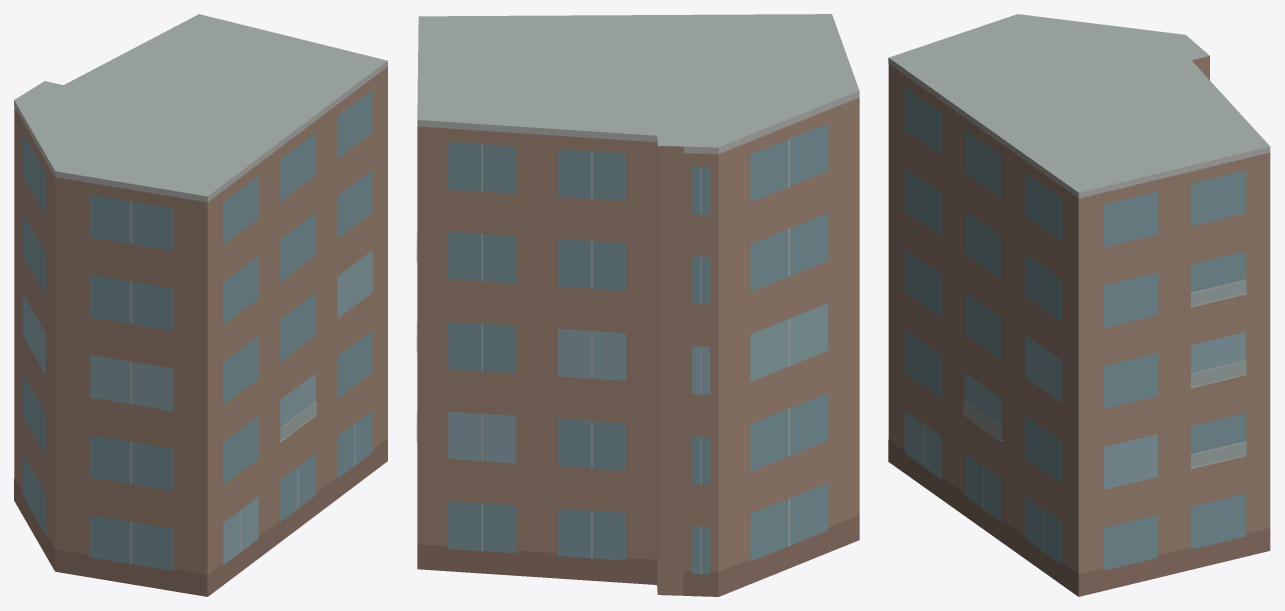
Rendered from survey-upis-32688602.glb.
The picture shows the model from 3 angles, left to right: view 1: azimuth 30°, elevation 25°; view 2: azimuth 150°, elevation 25°; view 3: azimuth 270°, elevation 25°; orthographic projection. The views are drawn at different scales.
Visible parts, largest first — view 1: survey-upis-32688602.tmp; view 2: survey-upis-32688602.tmp; view 3: survey-upis-32688602.tmp.
Boxes of the visible parts, bbox=[...] form: survey-upis-32688602.tmp: bbox=[14, 14, 387, 596]; survey-upis-32688602.tmp: bbox=[416, 14, 859, 596]; survey-upis-32688602.tmp: bbox=[888, 14, 1270, 596].
Bounding box in the file's own units: 15.84 × 16.69 × 14.3.
